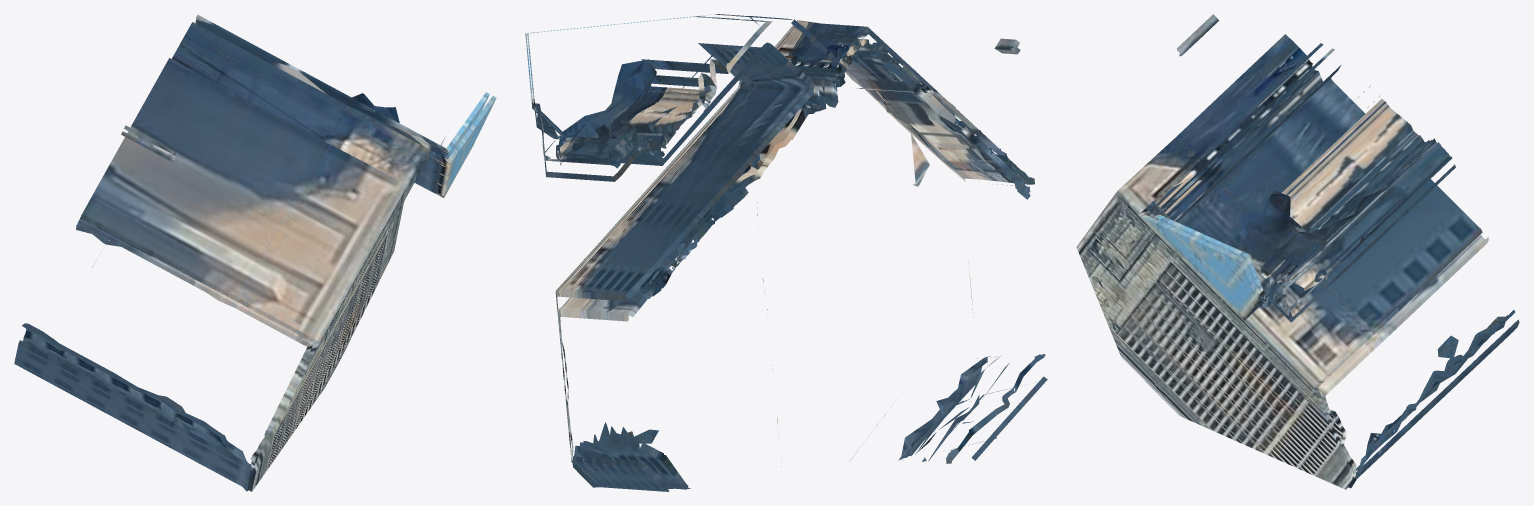
The model's file is masp_tile_0.glb.
The picture shows the model from 3 angles, left to right: view 1: azimuth 30°, elevation 25°; view 2: azimuth 150°, elevation 25°; view 3: azimuth 270°, elevation 25°; orthographic projection. The views are drawn at different scales.
Size of the model in its own units: 53.12 by 46.02 by 48.5.
2 materials, 2 textured.
